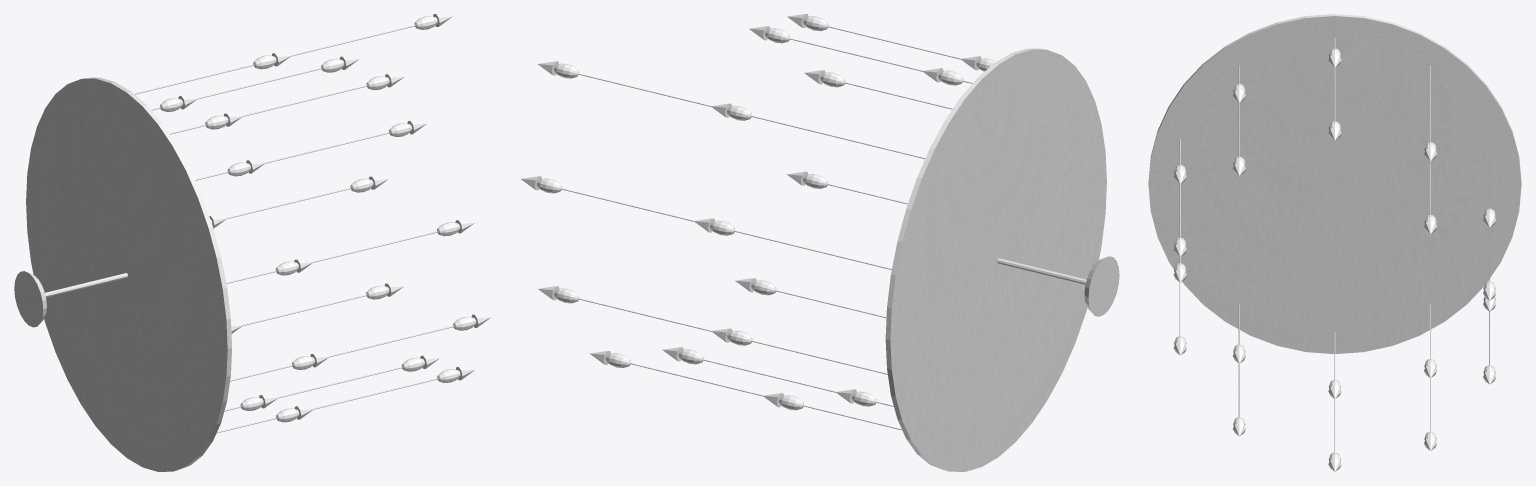
Rendered from spiralrainchandelier.obj.
3 views of the same model, side by side, from view 1: azimuth 30°, elevation 25°; view 2: azimuth 150°, elevation 25°; view 3: azimuth 270°, elevation 25° (orthographic). The views are drawn at different scales.
Parts seen in each view (by area): view 1: Metal, Glass, Base; view 2: Metal, Glass, Base; view 3: Metal, Glass.
Part boxes in pixels (x1,y1,x2,y2): Metal: [26, 25, 453, 471]; Glass: [178, 14, 491, 419]; Base: [14, 271, 46, 327]; Metal: [561, 26, 1106, 471]; Glass: [521, 14, 981, 407]; Base: [1084, 256, 1119, 316]; Metal: [1148, 14, 1521, 452]; Glass: [1173, 54, 1496, 471].
Size of the model in its own units: 5.32 by 3.9 by 3.9.
